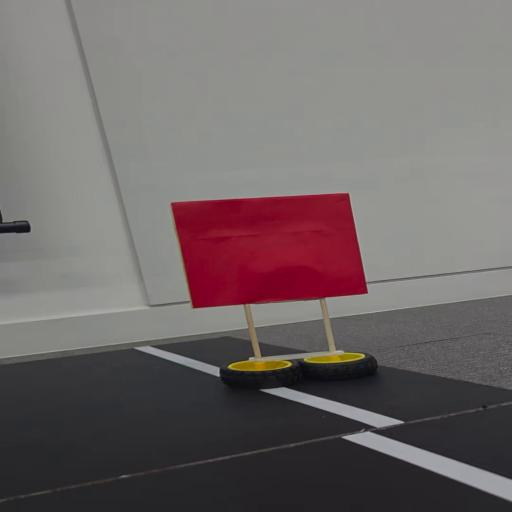Sign_A: (174, 192, 396, 394)
